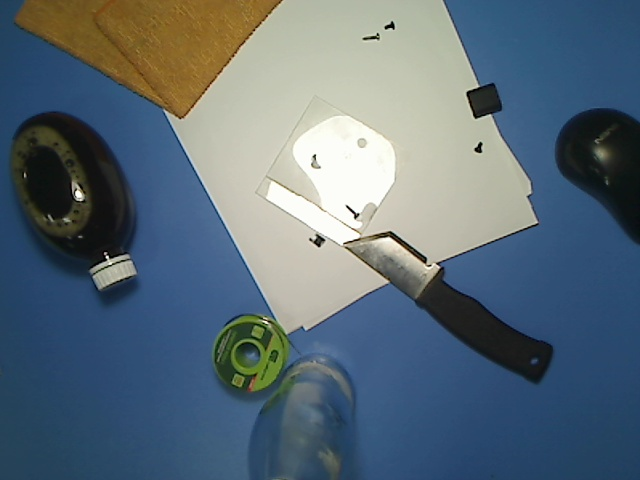plast_bottle: (7, 110, 144, 302)
